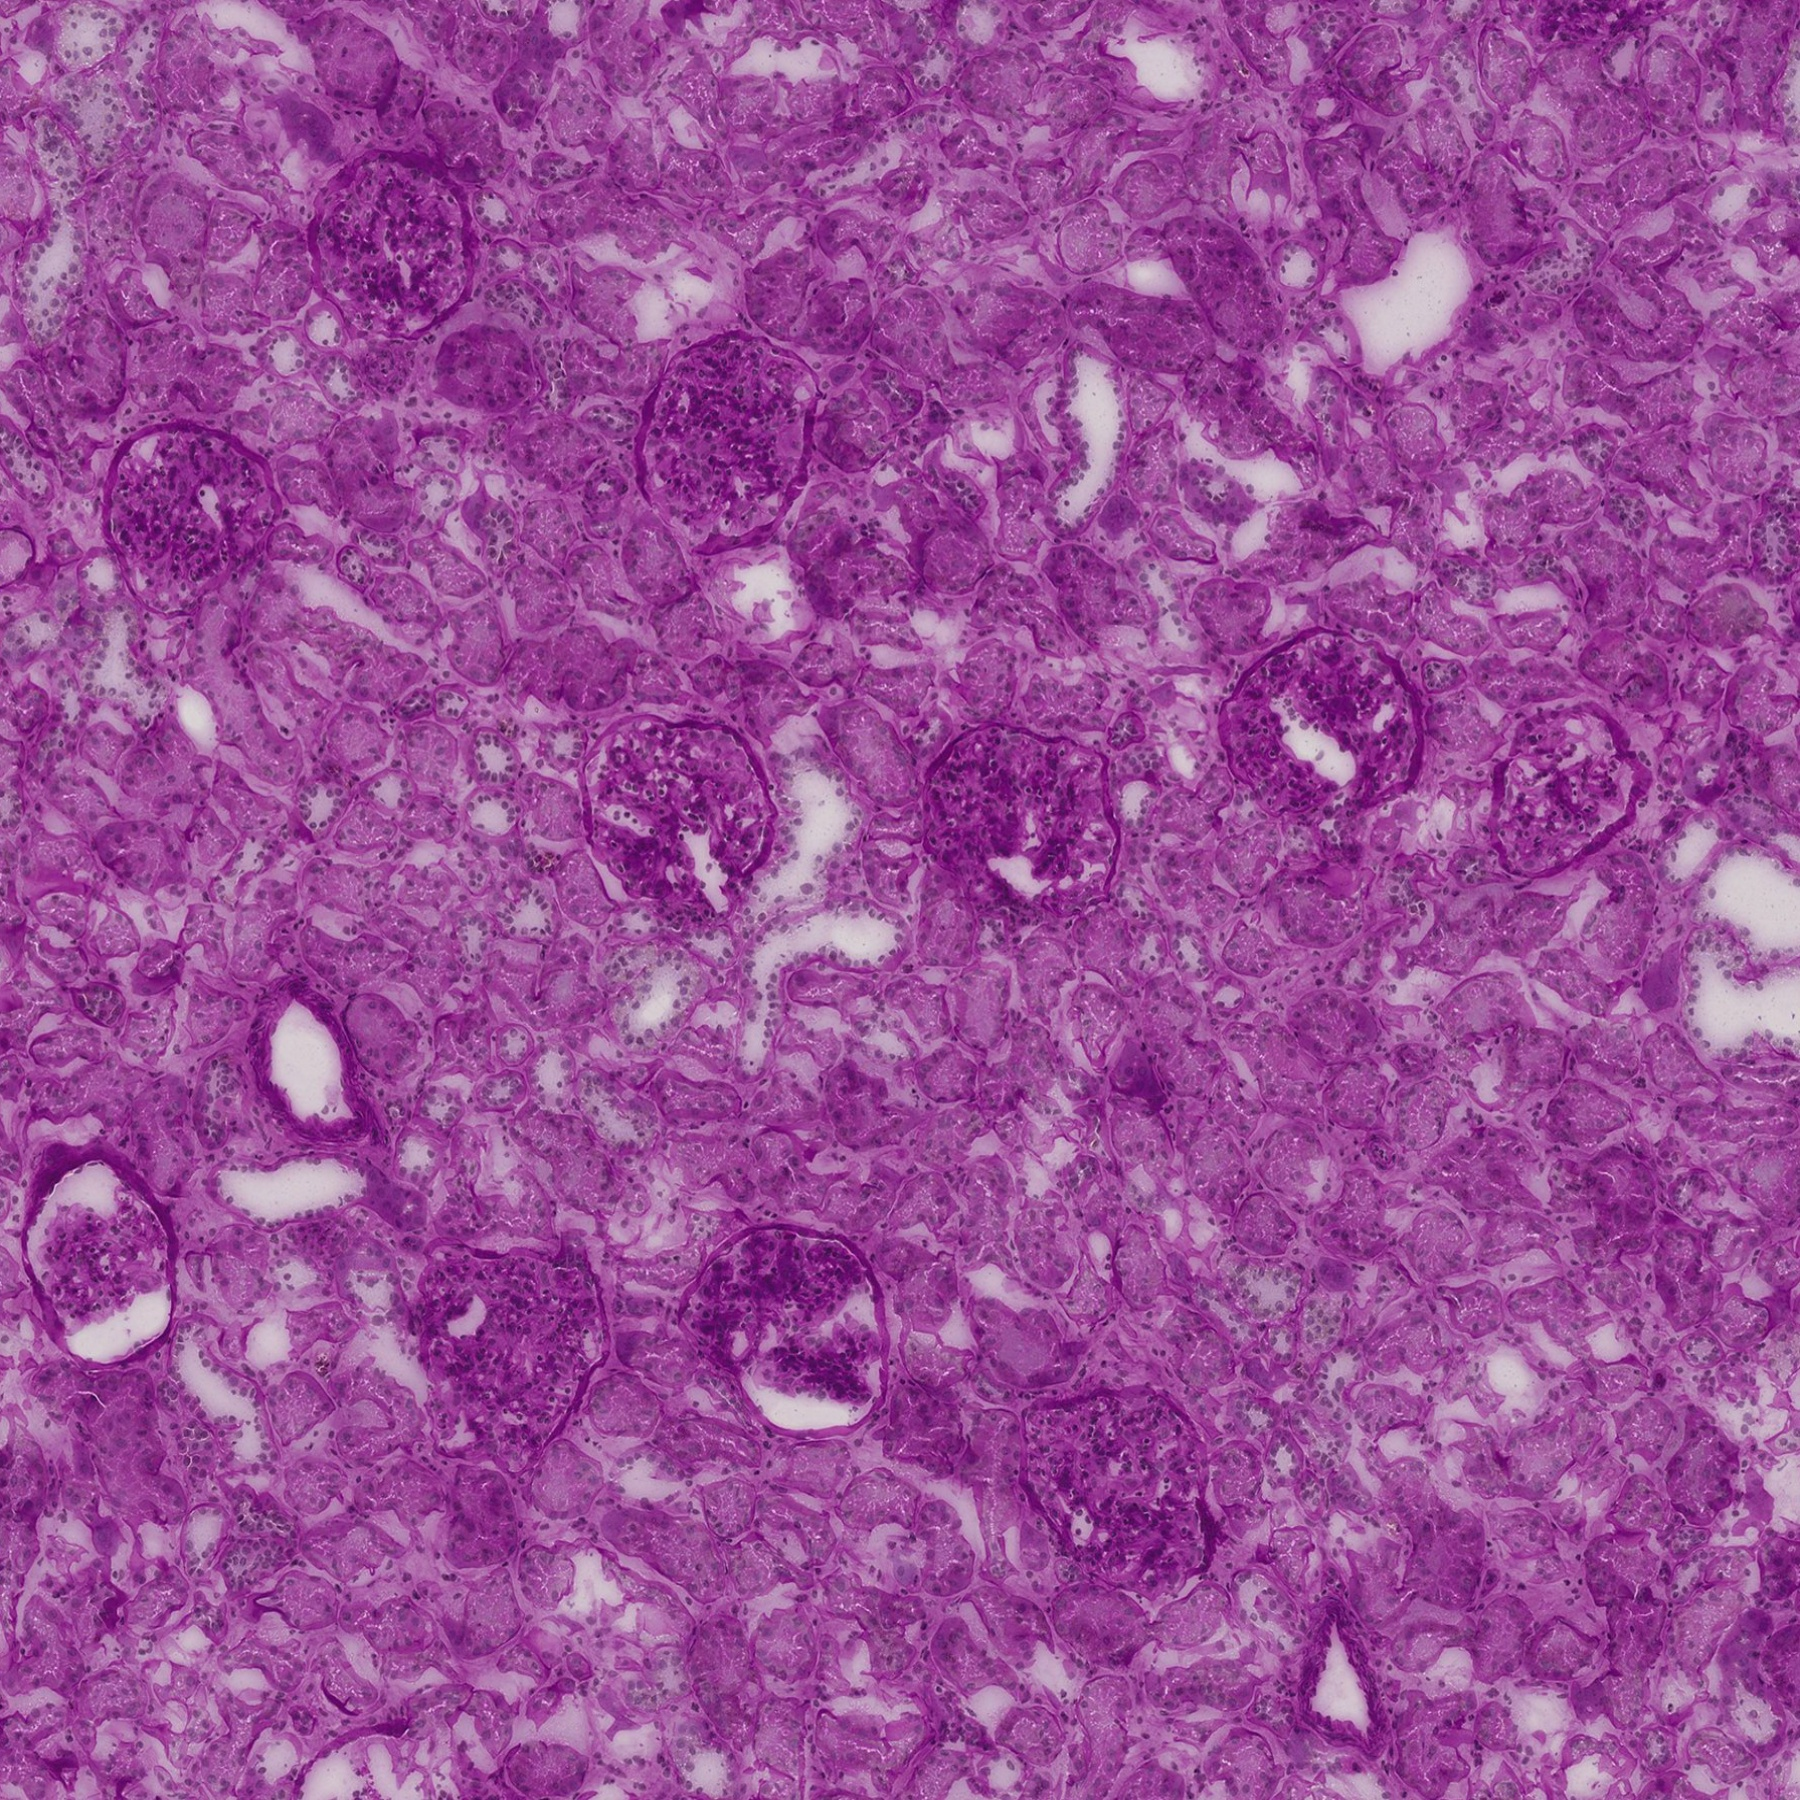Glomeruli: (401, 1236, 628, 1475), (1213, 628, 1431, 847), (574, 709, 783, 931), (631, 326, 824, 565), (1015, 1380, 1216, 1596), (920, 719, 1124, 930), (97, 424, 285, 616), (21, 1147, 178, 1375), (298, 155, 478, 351), (1487, 697, 1652, 887)
